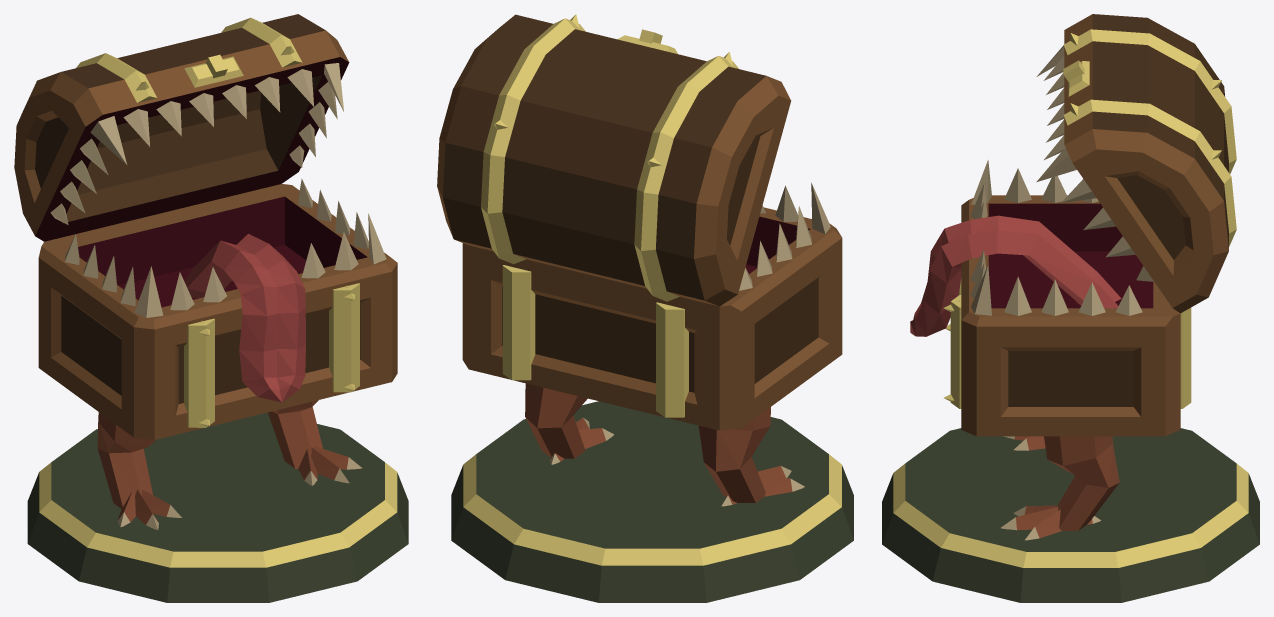
Rendered from mimic-miniature-f6270f.glb.
3 renders of one model, left to right at view 1: azimuth 30°, elevation 25°; view 2: azimuth 150°, elevation 25°; view 3: azimuth 270°, elevation 25°, orthographic. The views are drawn at different scales.
Visible parts, largest first — view 1: matte, gold, tongue; view 2: matte, gold; view 3: matte, gold, tongue.
Part boxes in pixels (x1,y1,x2,y2): matte: (14, 14, 408, 602); gold: (39, 17, 397, 567); tongue: (184, 233, 305, 402); matte: (437, 14, 853, 602); gold: (463, 14, 841, 565); matte: (882, 14, 1259, 602); gold: (893, 29, 1248, 567); tongue: (910, 215, 1121, 336).
Bounding box in the file's own units: 0.025 × 0.0336 × 0.025.
